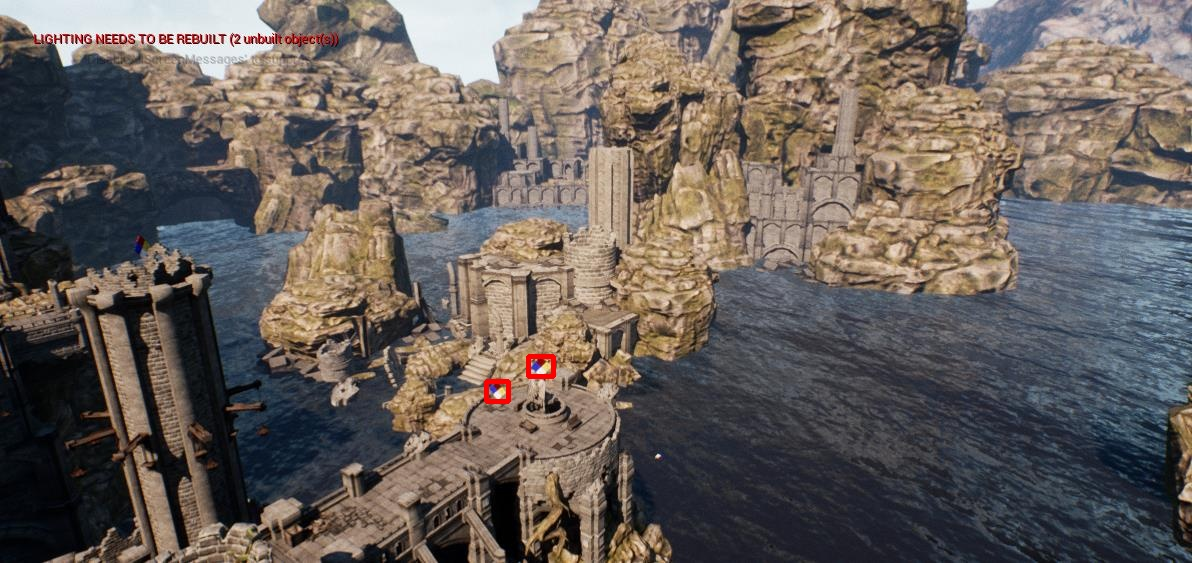nfpa: (528, 356, 553, 376), (486, 381, 508, 401)
